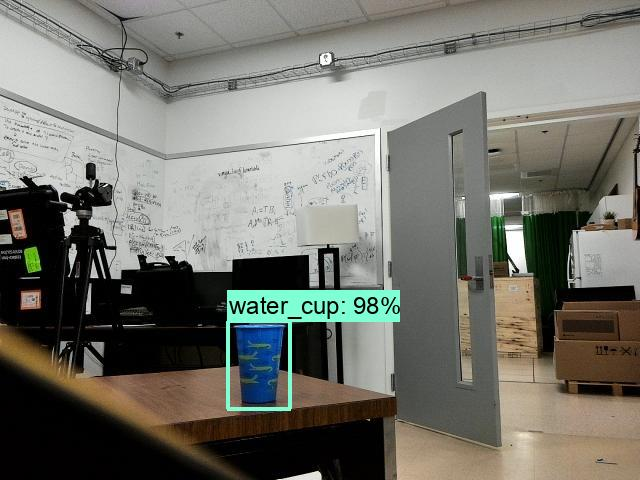water_cup: (228, 322, 292, 406)
